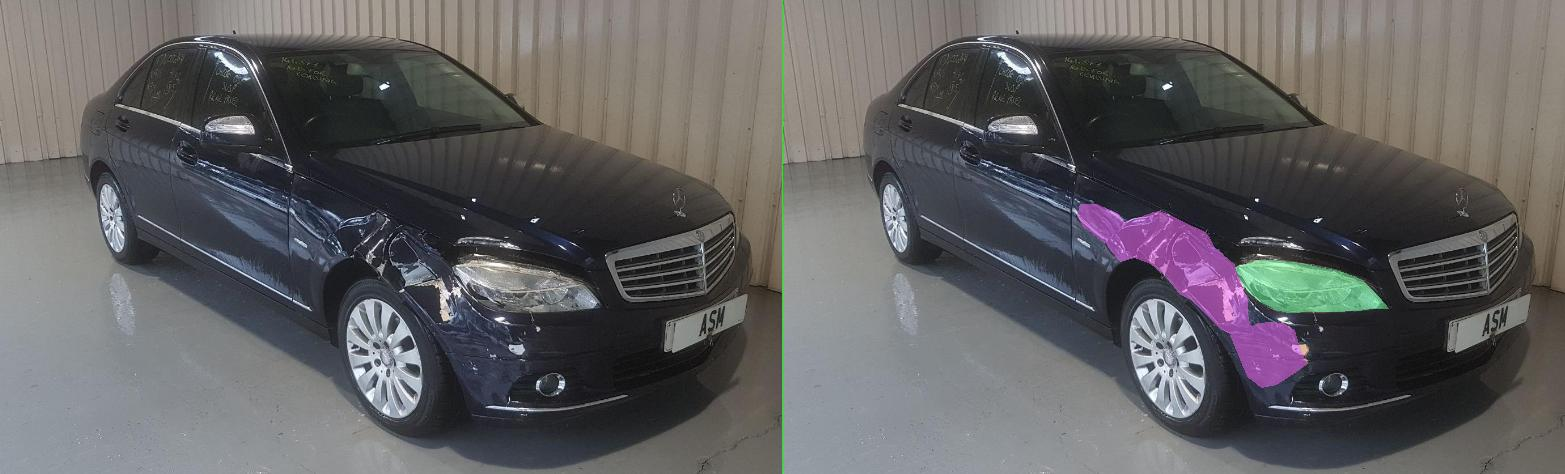Broken part: (905, 260, 1211, 312)
Dent: (588, 204, 935, 334), (895, 322, 1047, 387)
Paint chip: (941, 359, 965, 375), (1017, 344, 1051, 355), (973, 348, 995, 360), (1035, 357, 1049, 363)
